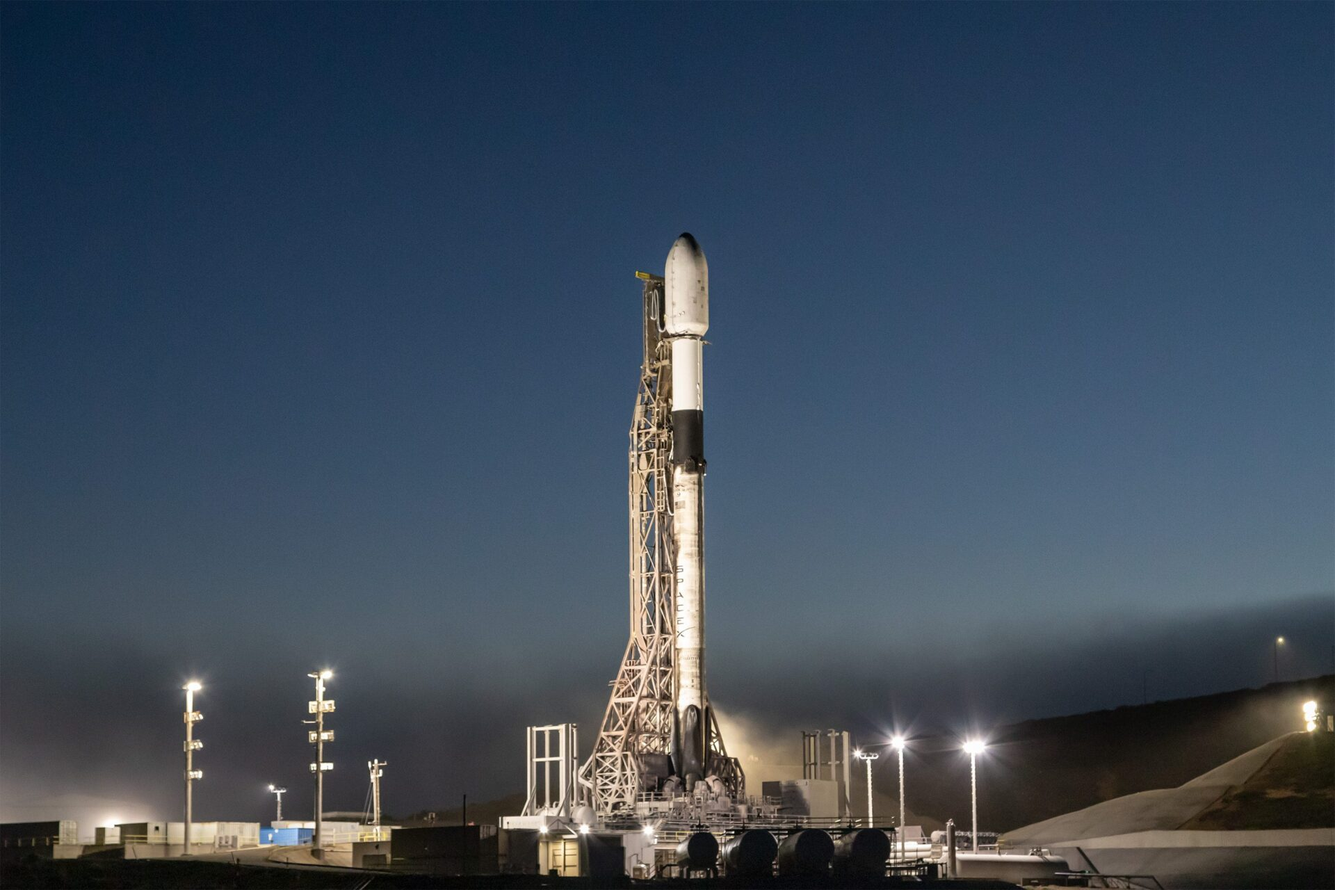falcon: (647, 225, 718, 777)
